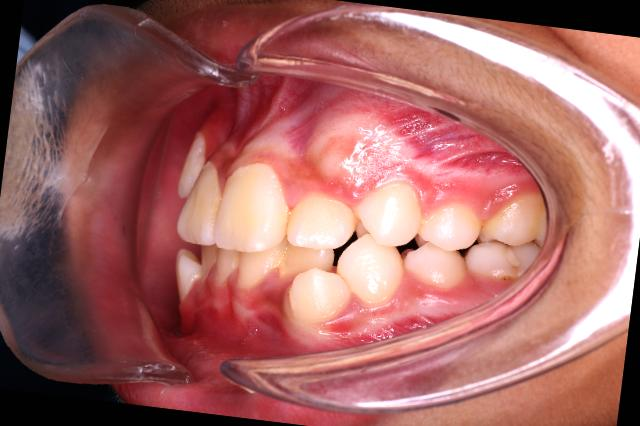molar class I: (458, 182, 560, 293)
